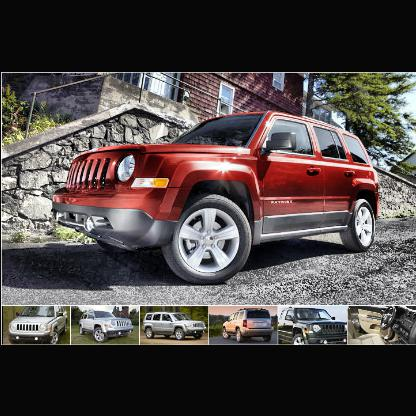Jeep Patriot SUV 2012: (55, 111, 383, 286)
